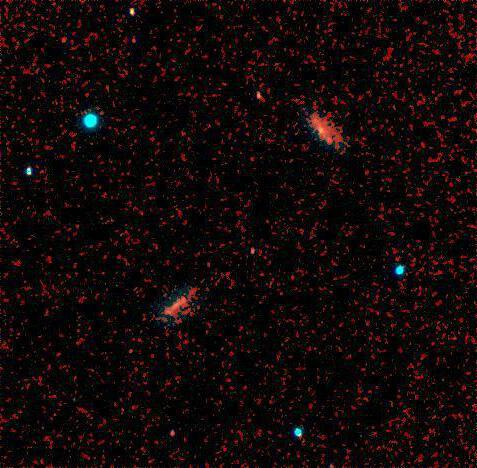star: (168, 285, 198, 315)
